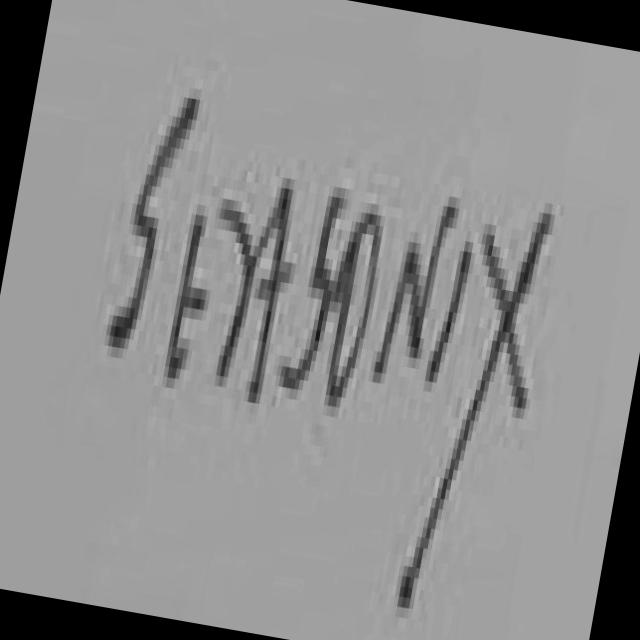A: (220, 188, 293, 398)
E: (168, 192, 254, 374)
I: (427, 253, 473, 395)
N: (377, 208, 457, 378)
O: (328, 215, 382, 402)
S: (109, 98, 197, 344), (284, 184, 353, 387)
X: (402, 214, 553, 604)
